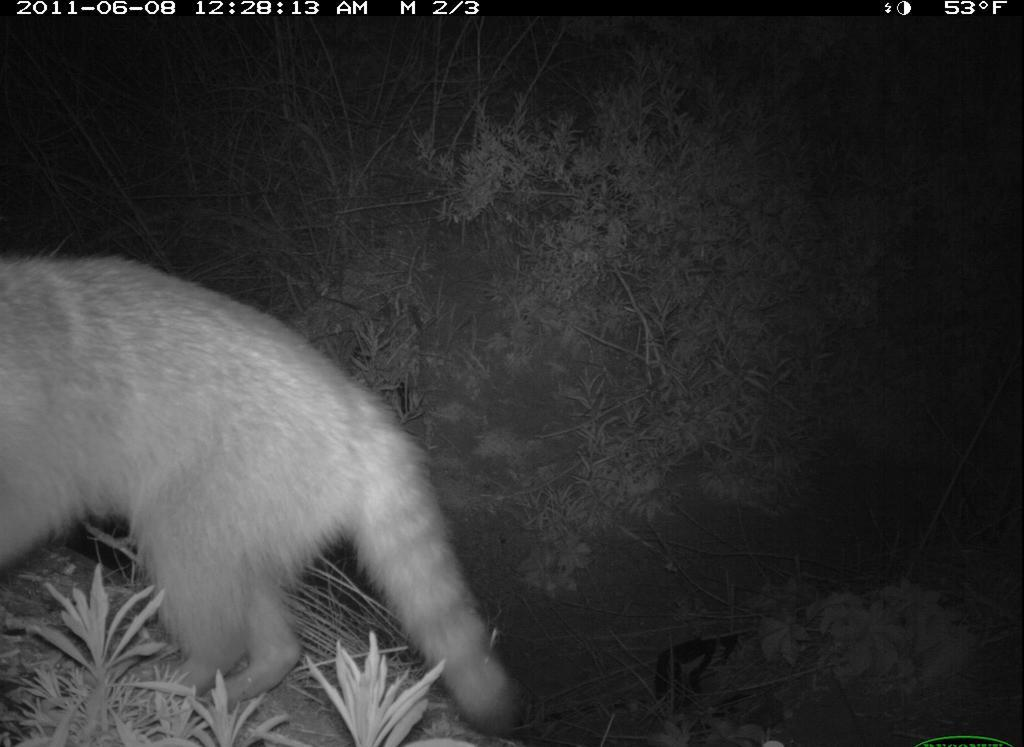raccoon: (1, 245, 538, 745)
